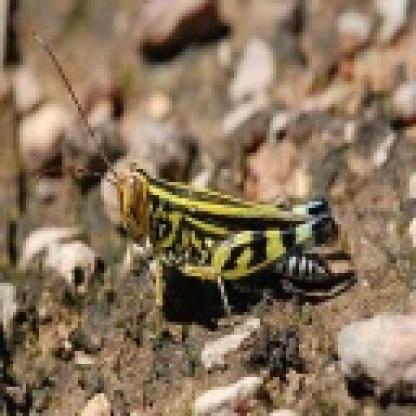grasshopper: (102, 147, 353, 318)
